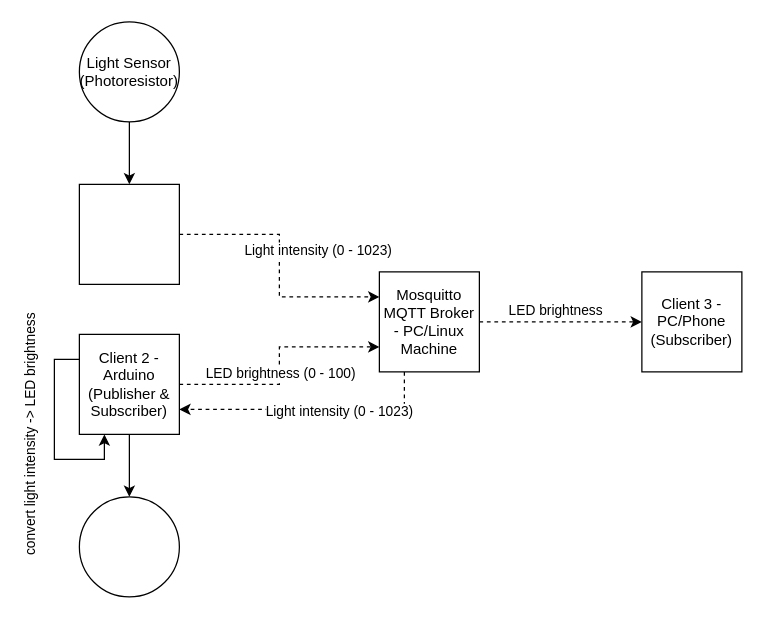
Some shapes in this 764 by 619 pixel diagram are drawn without their labels. Here are the shapes that lost their labels. From the top down, the box of each, then its label:
(78, 183, 179, 284): Client 1 - Arduino (Publisher)
(78, 496, 179, 597): LED
